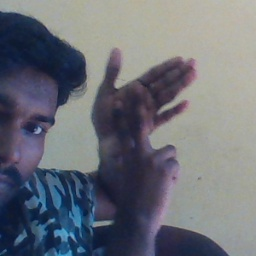N: (93, 46, 209, 188)
